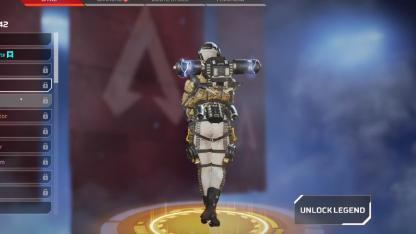Target: (174, 41, 236, 191)
